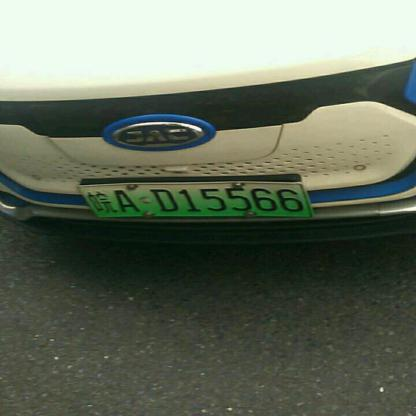lp: (78, 181, 313, 216)
